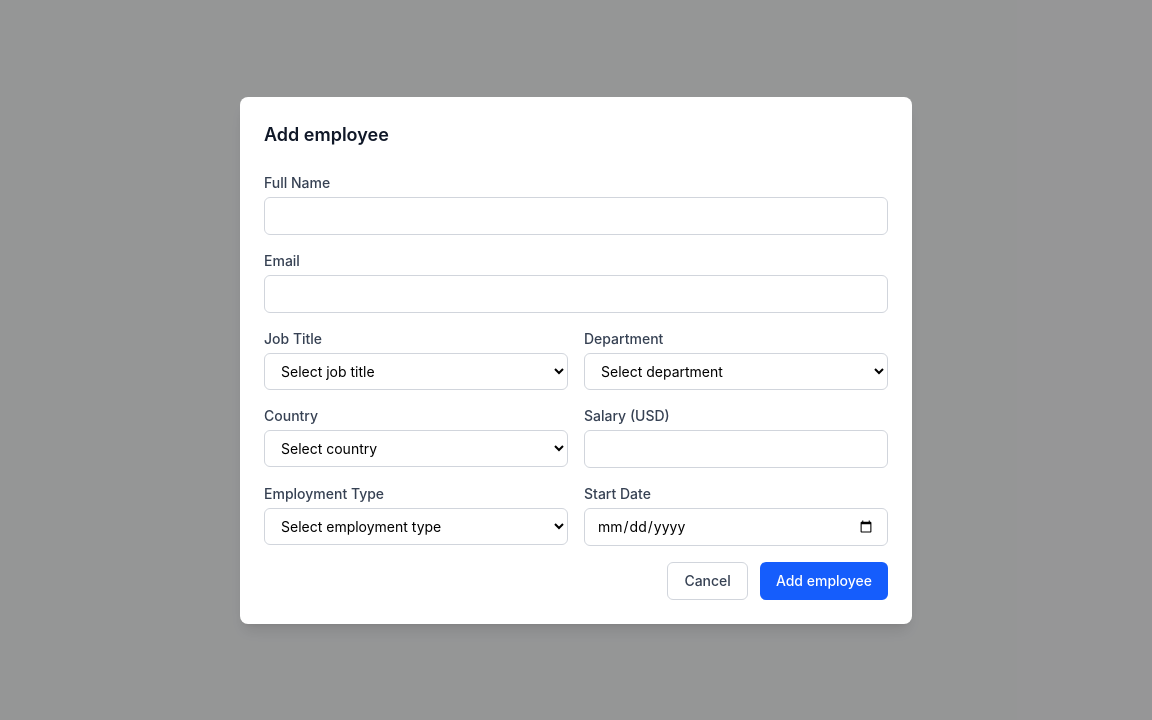
Scenario: EmployeeForm › shows validation errors when submitting empty form
The width and height of the screenshot is (1152, 720).
Step 1. Click the button "Add employee" → [824, 580], box [760,562,888,600]
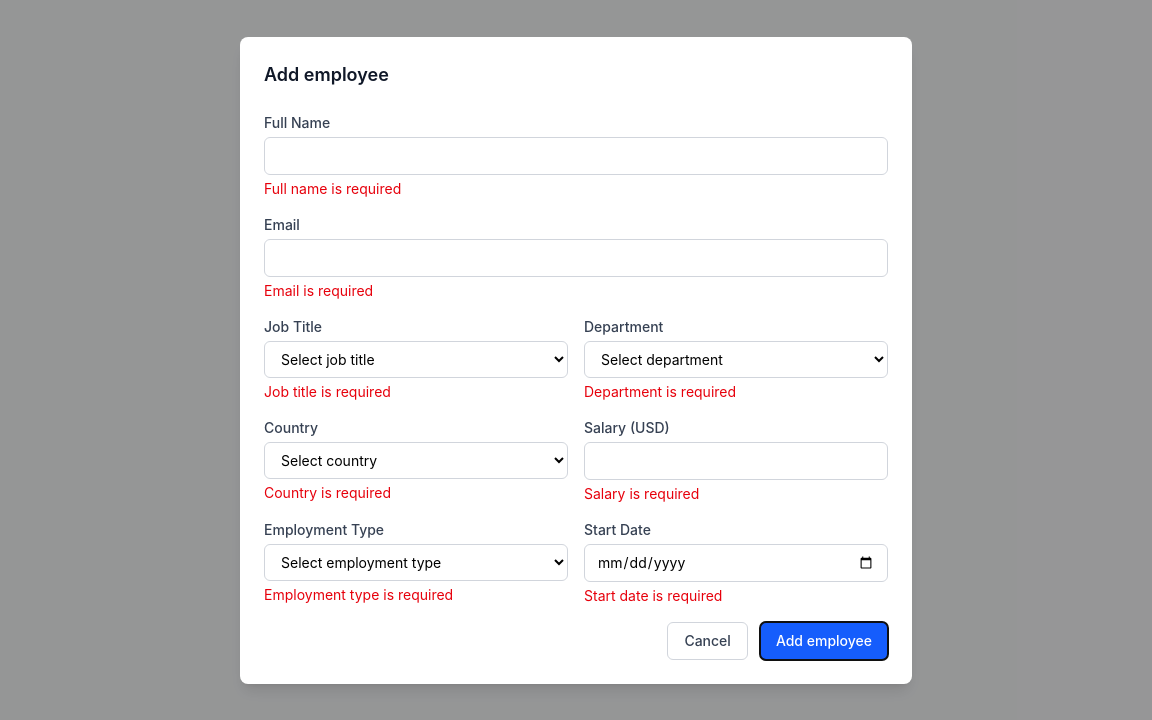
Check: the text "Full name is required" is shown, box [264,180,401,196]
Check: the text "Email is required" is shown, box [264,282,373,298]
Check: the text "Job title is required" is shown, box [264,382,391,400]
